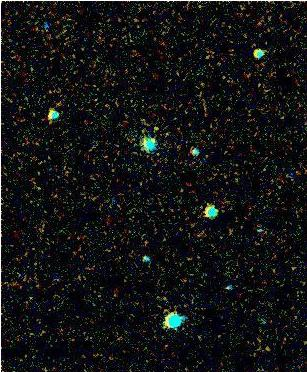star: (142, 107, 172, 137)
